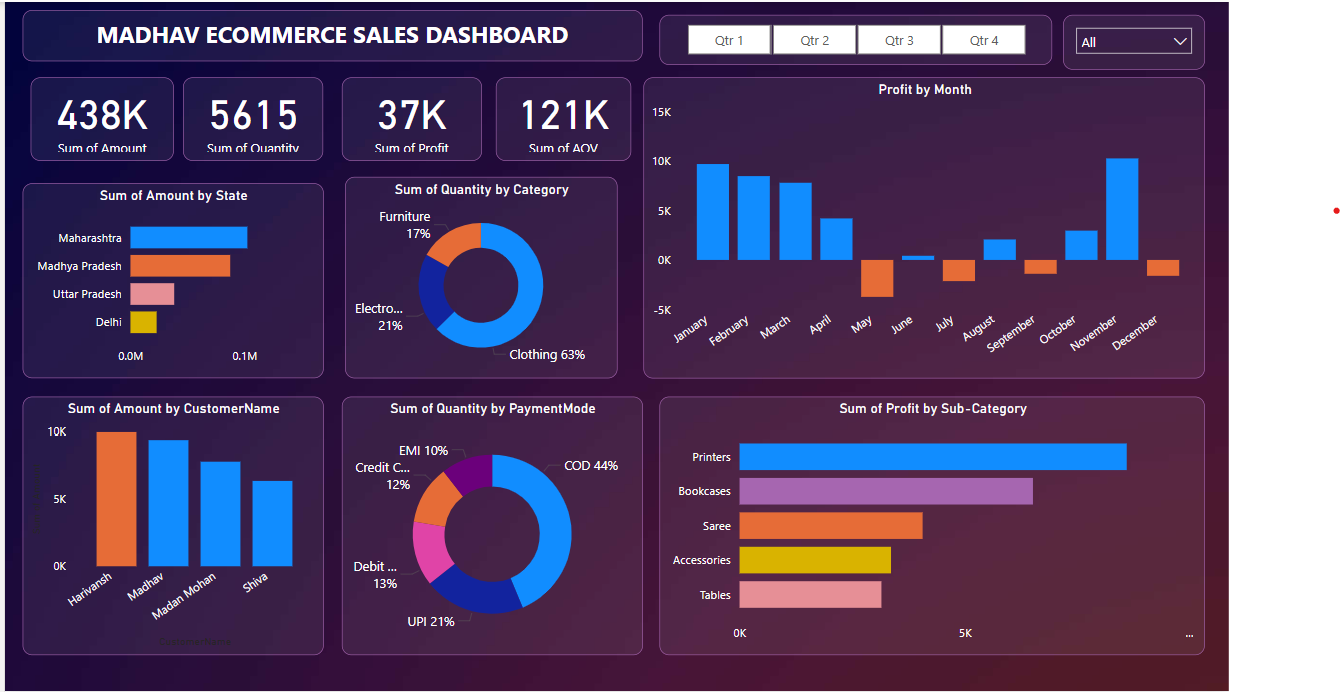

Layout of this report page (visuals, bound fields, positions):
{"tool":"powerbi","page":{"name":"Page 1","canvas":[1280,720],"ordinal":0},"visuals":[{"type":"textbox","box":[18.5,8.4,648.4,53.9],"z":0},{"type":"columnChart","title":"Profit by Month","fields":{"Y":["Details.Profit"],"Category":["Orders.Order Date.Variation.Date Hierarchy.Month"]},"box":[666.9,79.2,586.1,314.9],"z":1000},{"type":"barChart","fields":{"Category":["Details.Sub-Category"],"Y":["Details.Profit"]},"box":[683.8,412.6,569.3,269.5],"z":2000},{"type":"donutChart","fields":{"Category":["Details.Category"],"Y":["Details.Quantity"]},"box":[355.4,183.6,284.6,210.5],"z":3000},{"type":"donutChart","fields":{"Category":["Details.PaymentMode"],"Y":["Details.Quantity"]},"box":[352,412.6,314.9,269.5],"z":4000},{"type":"card","fields":{"Values":["Details.Amount"]},"box":[26.9,79.2,149.9,87.6],"z":5000},{"type":"card","fields":{"Values":["Details.Profit"]},"box":[352,79.2,146.5,87.6],"z":6000},{"type":"card","fields":{"Values":["Details.Quantity"]},"box":[186.9,79.2,146.5,87.6],"z":7000},{"type":"card","fields":{"Values":["Details.AOV"]},"box":[513.7,79.2,141.5,87.6],"z":8000},{"type":"barChart","fields":{"Category":["Orders.State"],"Y":["Details.Amount"]},"box":[18.5,190.3,314.9,203.8],"z":9000},{"type":"columnChart","fields":{"Category":["Orders.CustomerName"],"Y":["Details.Amount"]},"box":[18.5,412.6,314.9,269.5],"z":10000},{"type":"slicer","fields":{"Values":["Orders.Order Date.Variation.Date Hierarchy.Quarter"]},"box":[683.8,13.5,409.3,52.2],"z":11000},{"type":"slicer","fields":{"Values":["Orders.State"]},"box":[1104.8,13.5,148.2,57.3],"z":12000}]}

Visuals, with their boxes on the page's 1280x720 design canvas (x1, y1, x2, y2). These are canvas units, not pixel positions in the 1340x692 screenshot, which may show the page scaled, cropped or inside an application window:
textbox: {"left": 18, "top": 8, "right": 667, "bottom": 62}
"Profit by Month" columnChart: {"left": 667, "top": 79, "right": 1253, "bottom": 394}
barChart - Details.Sub-Category x Details.Profit: {"left": 684, "top": 413, "right": 1253, "bottom": 682}
donutChart - Details.Category x Details.Quantity: {"left": 355, "top": 184, "right": 640, "bottom": 394}
donutChart - Details.PaymentMode x Details.Quantity: {"left": 352, "top": 413, "right": 667, "bottom": 682}
card - Details.Amount: {"left": 27, "top": 79, "right": 177, "bottom": 167}
card - Details.Profit: {"left": 352, "top": 79, "right": 498, "bottom": 167}
card - Details.Quantity: {"left": 187, "top": 79, "right": 333, "bottom": 167}
card - Details.AOV: {"left": 514, "top": 79, "right": 655, "bottom": 167}
barChart - Orders.State x Details.Amount: {"left": 18, "top": 190, "right": 333, "bottom": 394}
columnChart - Orders.CustomerName x Details.Amount: {"left": 18, "top": 413, "right": 333, "bottom": 682}
slicer - Orders.Order Date.Variation.Date Hierarchy.Quarter: {"left": 684, "top": 14, "right": 1093, "bottom": 66}
slicer - Orders.State: {"left": 1105, "top": 14, "right": 1253, "bottom": 71}
